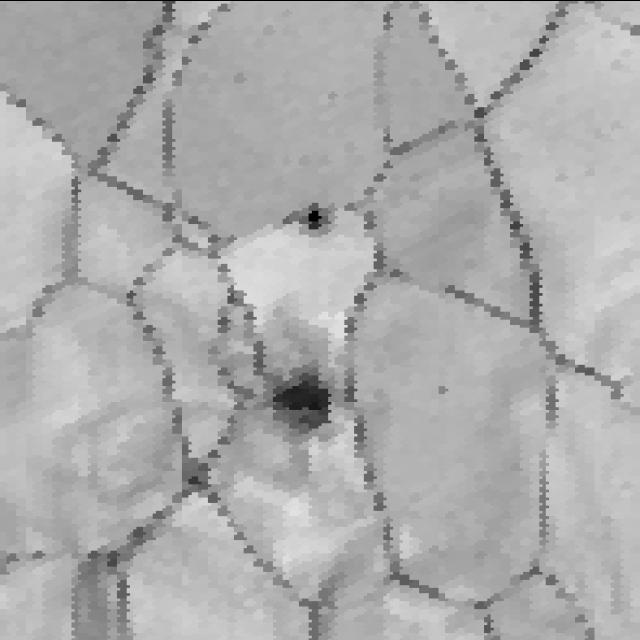good_void: (246, 347, 355, 460), (281, 198, 341, 239), (426, 381, 458, 401)
